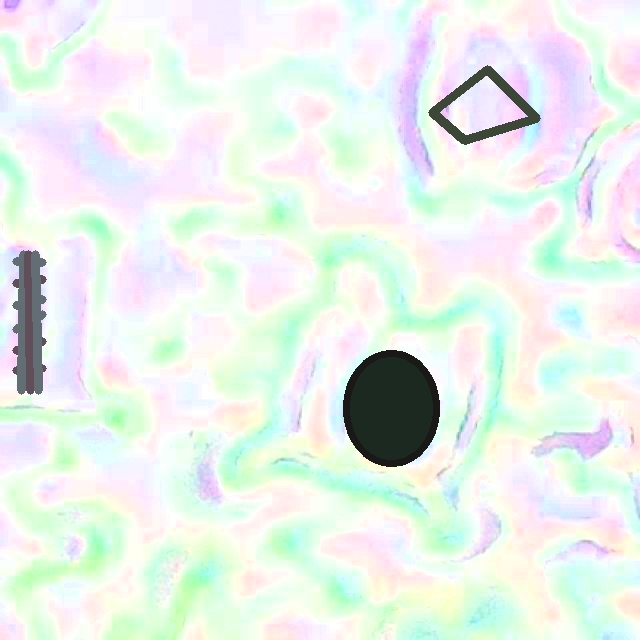open: (344, 350, 439, 465), (428, 65, 540, 144), (13, 251, 45, 393)
